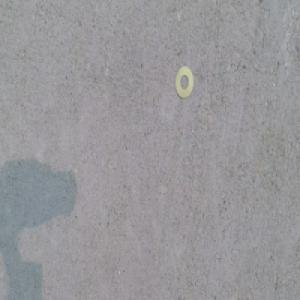Washer: (173, 68, 193, 99)
